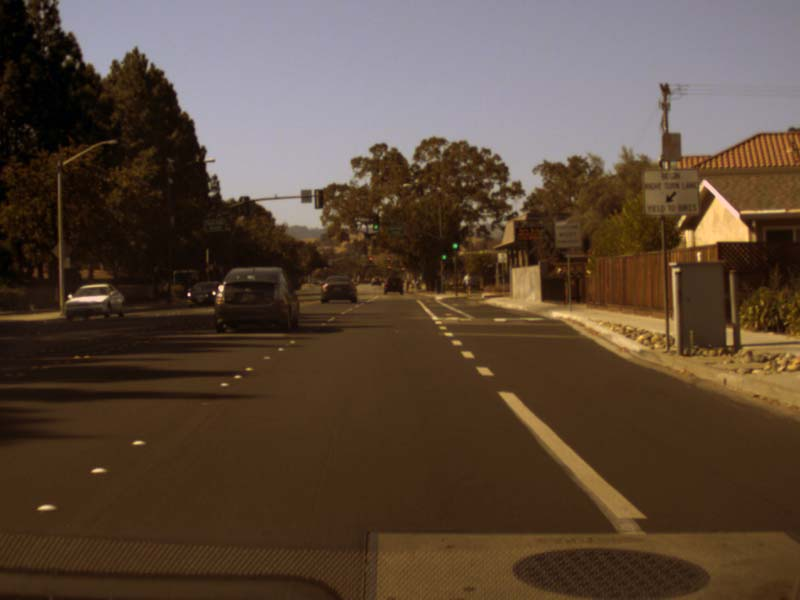Green: (450, 233, 458, 251), (439, 245, 447, 261), (372, 214, 379, 231)
